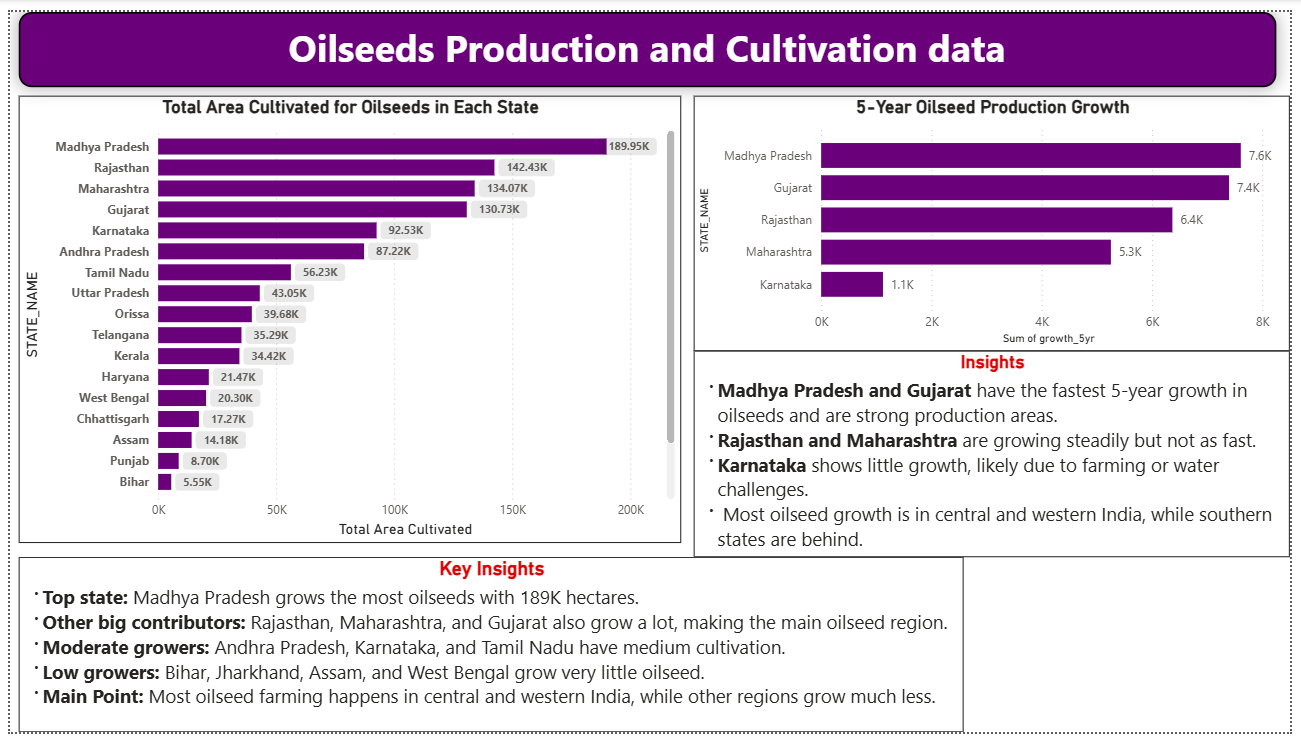

The dashboard page shown, as its layout file describes it:
{"tool":"powerbi","page":{"name":"Dashboard-2","canvas":[1280,720],"ordinal":1},"visuals":[{"type":"barChart","title":"Total Area Cultivated for Oilseeds in Each State","fields":{"Category":["Total Area Cultivated for Oilseeds in Each State.STATE_NAME"],"Y":["Sum(Total Area Cultivated for Oilseeds in Each State.total_area)"]},"box":[8.8,83.8,662.5,447.5],"z":0},{"type":"textbox","title":"Key Insights","box":[8.8,545,945,175],"z":1000},{"type":"clusteredBarChart","title":"5-Year Oilseed Production Growth","fields":{"Y":["Sum(Growth in Oilseed Production.growth_5yr)"],"Category":["Growth in Oilseed Production.STATE_NAME"]},"box":[683.8,83.8,596.2,255],"z":2000},{"type":"textbox","title":"Insights","box":[683.8,338.8,596.2,206.2],"z":3000},{"type":"textbox","box":[8.8,0,1257.5,75],"z":4000}]}

Visuals, with their boxes in screenshot pixels (x1, y1, x2, y2), scaled from the page's 1280x720 canvas onto the 1301x738 screenshot:
"Total Area Cultivated for Oilseeds in Each State" barChart: box=[9, 86, 682, 545]
"Key Insights" textbox: box=[9, 559, 969, 737]
"5-Year Oilseed Production Growth" clusteredBarChart: box=[695, 86, 1300, 347]
"Insights" textbox: box=[695, 347, 1300, 559]
textbox: box=[9, 0, 1287, 77]
